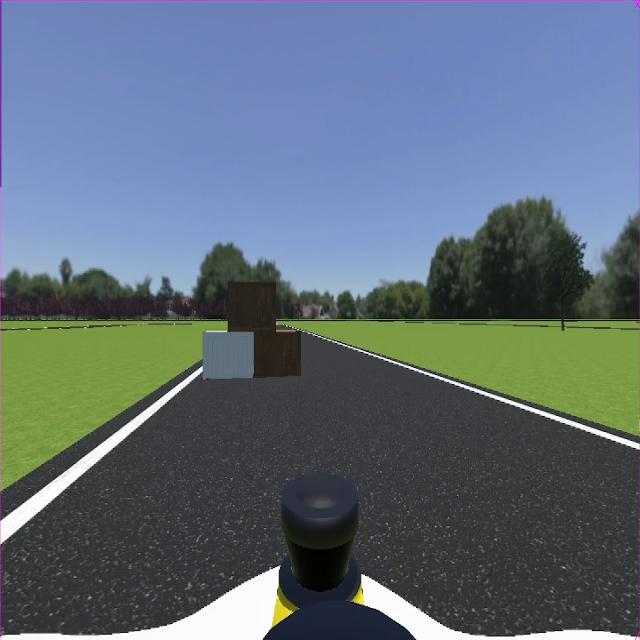road: (2, 336, 638, 634)
solid_line: (309, 332, 640, 450), (2, 369, 201, 544)
